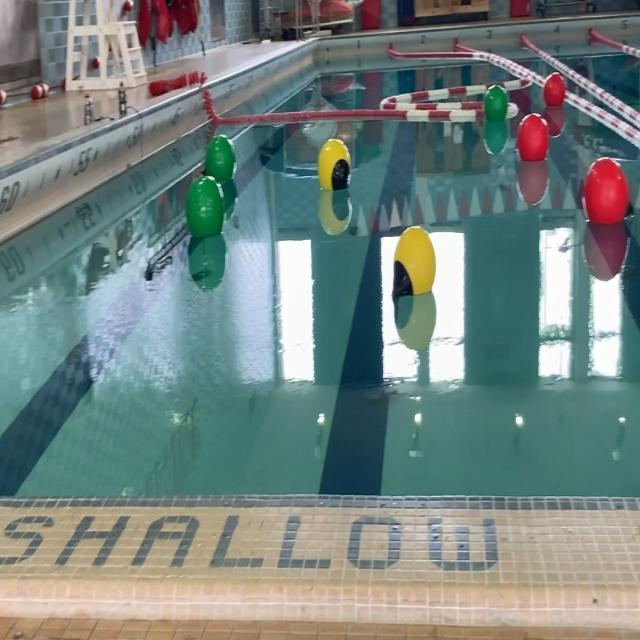buoy: (582, 156, 632, 226), (391, 224, 436, 301), (186, 173, 229, 241), (318, 136, 352, 195), (517, 113, 551, 165), (204, 136, 237, 185), (484, 86, 509, 124), (543, 72, 566, 108)
